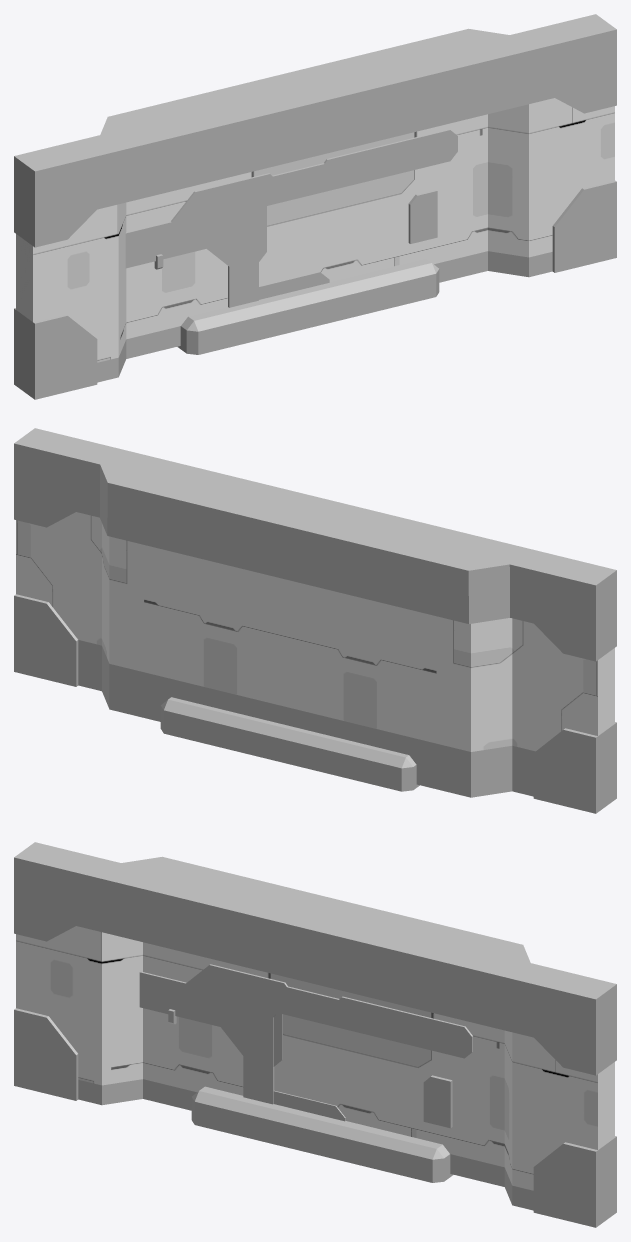
The model's file is SM_Wall_8x3_3.fbx.
3 views of the same model, one above another, from view 1: azimuth 30°, elevation 25°; view 2: azimuth 150°, elevation 25°; view 3: azimuth 330°, elevation 25° (orthographic).
Visible parts, largest first — view 1: SM_Wall_8x3_3; view 2: SM_Wall_8x3_3; view 3: SM_Wall_8x3_3.
Boxes of the visible parts, x1=… form: SM_Wall_8x3_3: x1=14, y1=14, x2=616, y2=399; SM_Wall_8x3_3: x1=14, y1=428, x2=616, y2=813; SM_Wall_8x3_3: x1=14, y1=842, x2=616, y2=1227.
Bounding box in the file's own units: 800 × 305 × 103.
